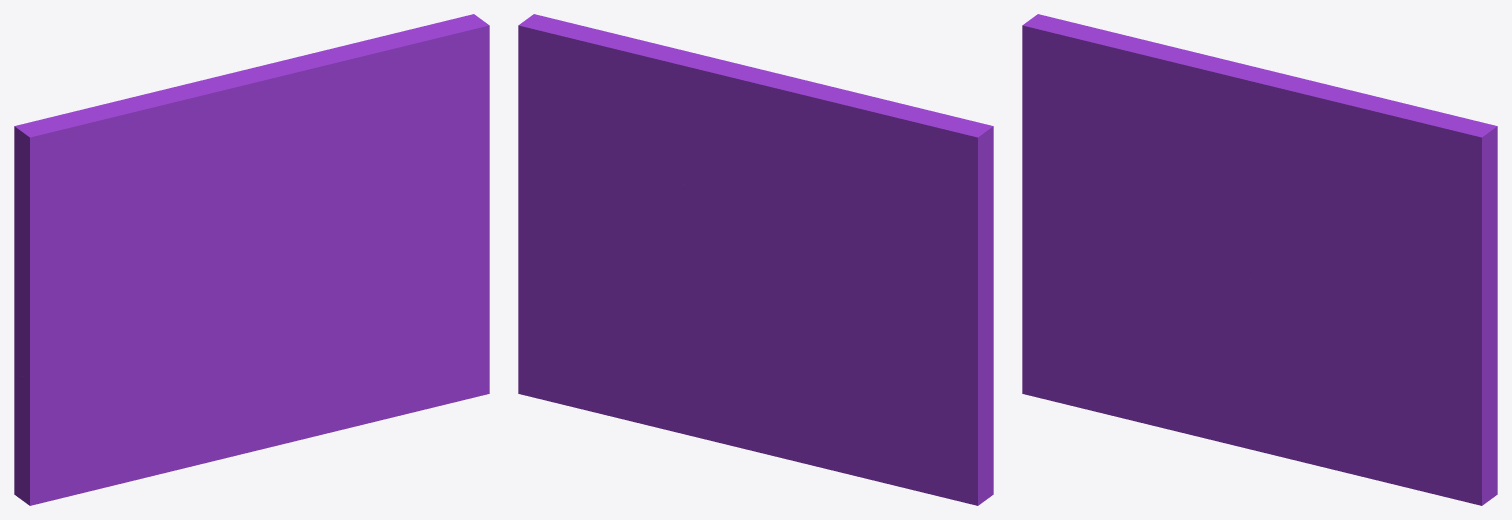
File: Barrier_42_chunks.fbx
3 views of the same model, side by side, from view 1: azimuth 30°, elevation 25°; view 2: azimuth 150°, elevation 25°; view 3: azimuth 330°, elevation 25° (orthographic).
Visible parts, largest first — view 1: Barrier_42_1, Barrier_42_3, Barrier_42_2, Barrier_42_0; view 2: Barrier_42_1, Barrier_42_2, Barrier_42_0, Barrier_42_3; view 3: Barrier_42_1, Barrier_42_3, Barrier_42_2, Barrier_42_0.
Part boxes in pixels (x1=…): Barrier_42_1: x1=260, y1=14, x2=489, y2=424; Barrier_42_3: x1=14, y1=105, x2=270, y2=395; Barrier_42_2: x1=14, y1=279, x2=363, y2=505; Barrier_42_0: x1=79, y1=32, x2=399, y2=228; Barrier_42_1: x1=518, y1=14, x2=737, y2=420; Barrier_42_2: x1=629, y1=268, x2=993, y2=505; Barrier_42_0: x1=592, y1=39, x2=914, y2=270; Barrier_42_3: x1=786, y1=93, x2=993, y2=383; Barrier_42_1: x1=1253, y1=108, x2=1497, y2=505; Barrier_42_3: x1=1022, y1=14, x2=1263, y2=283; Barrier_42_2: x1=1022, y1=279, x2=1355, y2=474; Barrier_42_0: x1=1102, y1=29, x2=1423, y2=234.
Bounding box in the file's own units: 376 × 288 × 22.1.
